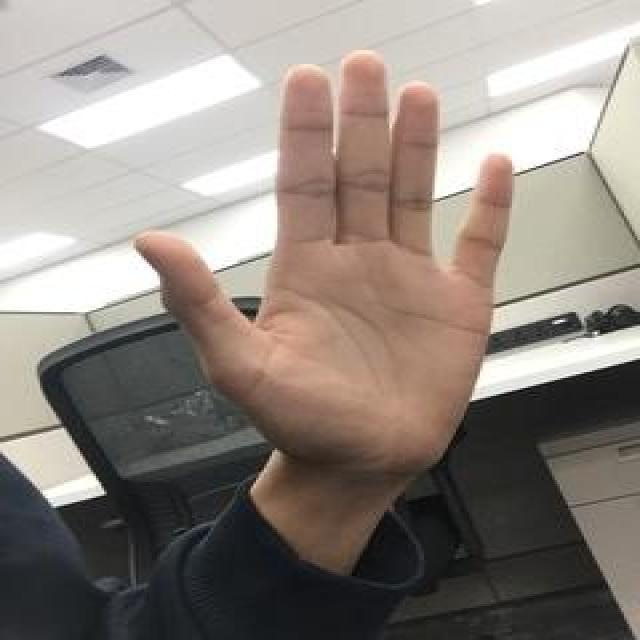no-gloves: (126, 50, 516, 454)
